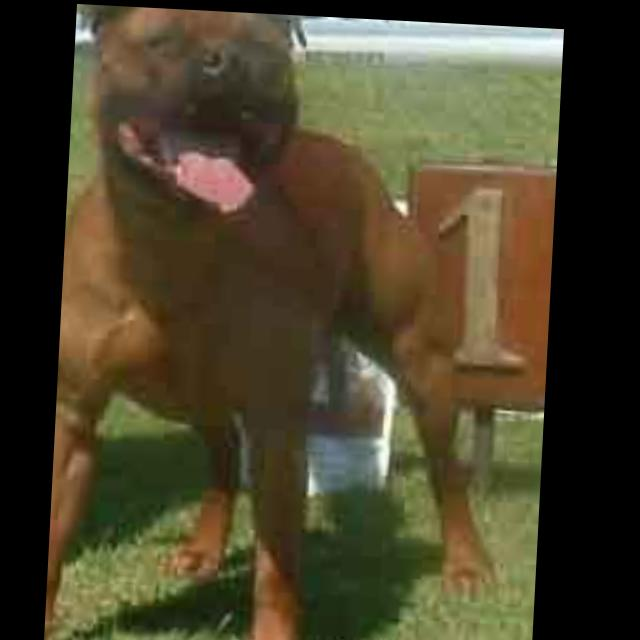staffford: (51, 4, 547, 640)
